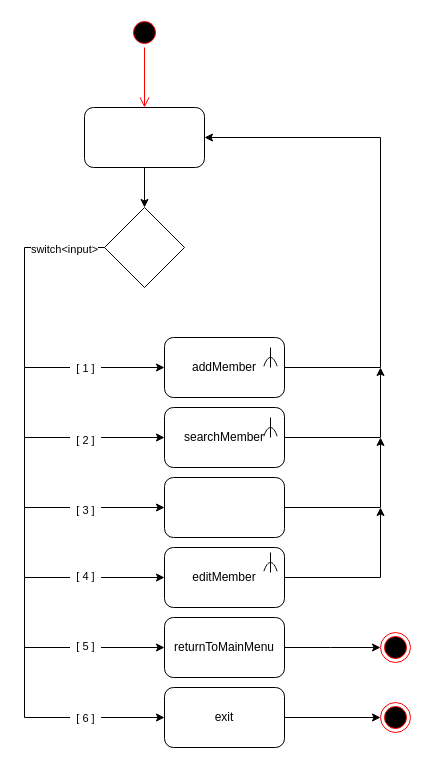
Image size: 428x765. Some labels were removed from this diagram. The centre of each missing label's shape, as x and y in pixels:
Select menu option: point 144,137
showMembers: point 224,507
